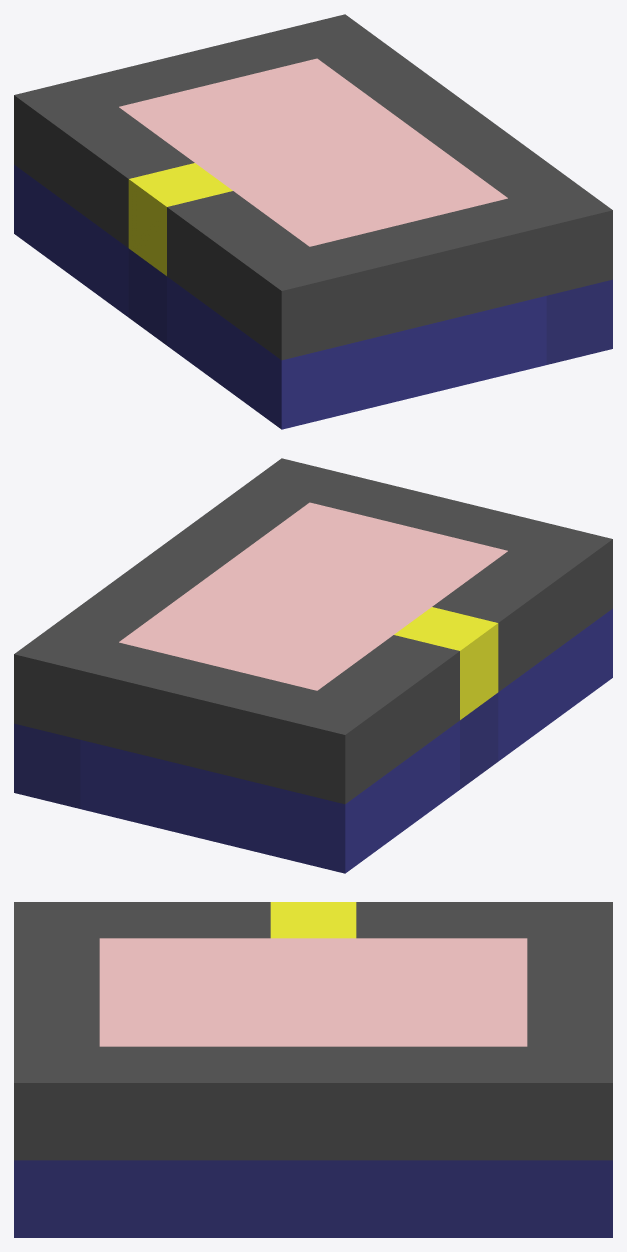
Rendered from pracGenny-5-pelvis.obj.
The picture shows the model from 3 angles, top to bottom: view 1: azimuth 30°, elevation 25°; view 2: azimuth 150°, elevation 25°; view 3: azimuth 270°, elevation 25°; orthographic projection. The views are drawn at different scales.
Parts seen in each view (by area): view 1: pelvis; view 2: pelvis; view 3: pelvis.
Boxes of the visible parts, x1=… form: pelvis: x1=14, y1=14, x2=612, y2=429; pelvis: x1=14, y1=458, x2=612, y2=873; pelvis: x1=14, y1=902, x2=612, y2=1237.
Bounding box in the file's own units: 0.5 × 0.2 × 0.7.
1 material, 1 textured.
